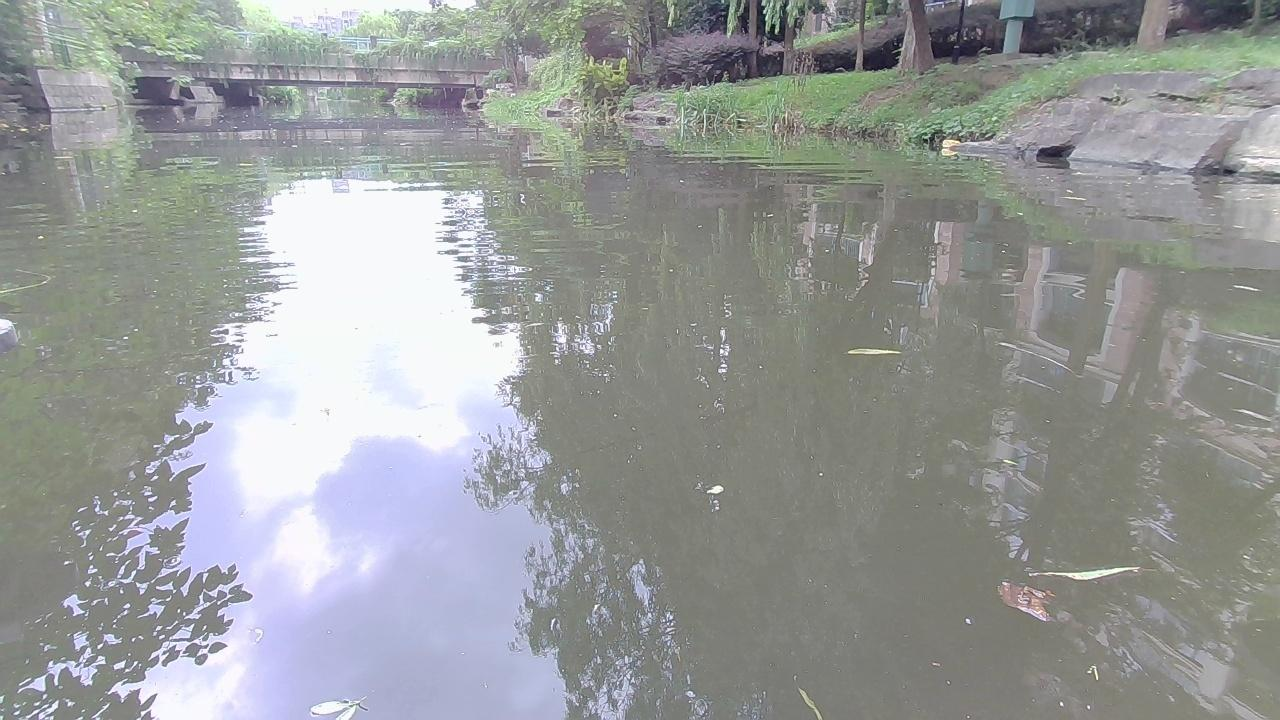bottle: (938, 134, 973, 150)
